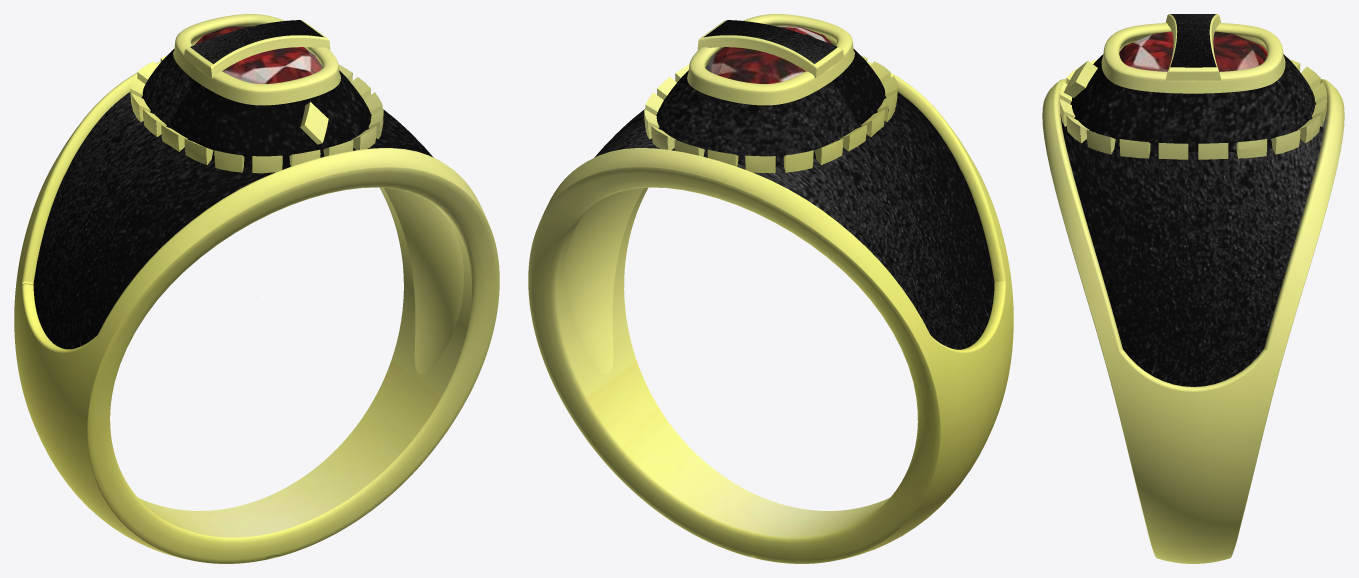
Rendered from ring32.glb.
3 renders of one model, left to right at view 1: azimuth 30°, elevation 25°; view 2: azimuth 150°, elevation 25°; view 3: azimuth 270°, elevation 25°, orthographic.
Parts seen in each view (by area): view 1: body, black, core; view 2: body, black, core; view 3: black, body, core.
Boxes of the visible parts, x1,y1,x2,y2 form: body: (14, 14, 499, 563); black: (33, 20, 433, 349); core: (195, 26, 322, 83); body: (528, 14, 1013, 563); black: (594, 20, 994, 349); core: (705, 26, 832, 83); black: (1060, 14, 1326, 386); body: (1042, 14, 1344, 563); core: (1119, 31, 1267, 71).
Size of the model in its own units: 25.85 by 29.69 by 15.99.
Materials: 4 (4 with a texture image).
